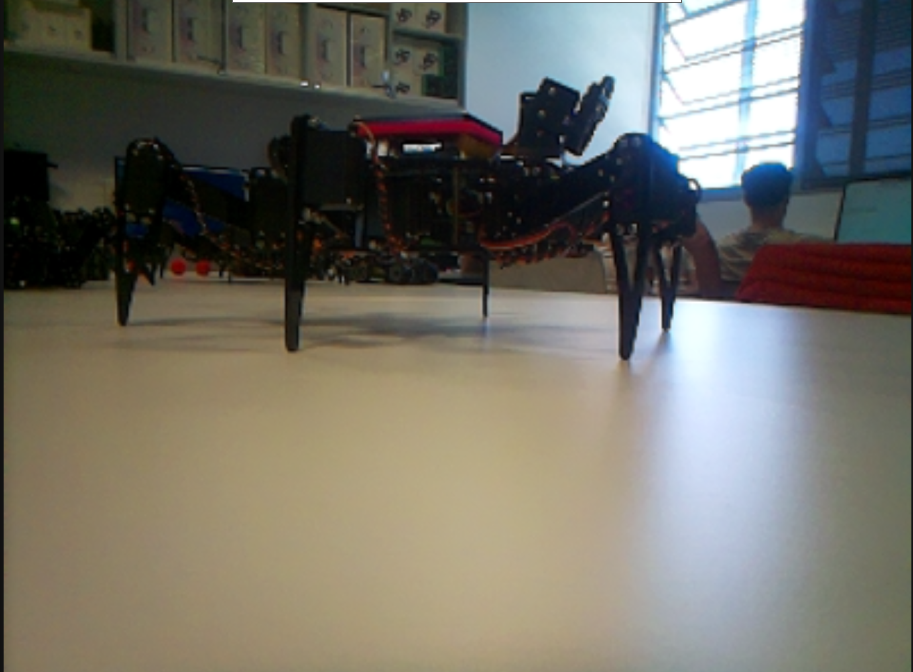hexapodo_propio: (114, 72, 697, 358)
